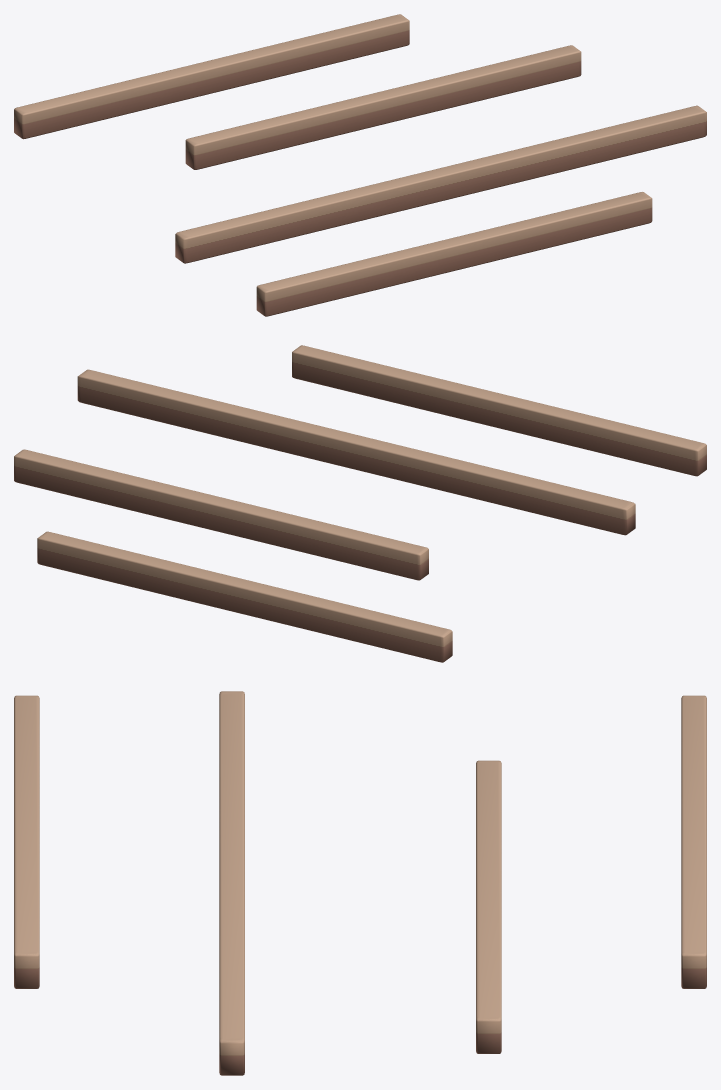
The model's file is Props.fbx.
3 views of the same model, one above another, from view 1: azimuth 30°, elevation 25°; view 2: azimuth 150°, elevation 25°; view 3: azimuth 270°, elevation 25° (orthographic). The views are drawn at different scales.
Parts seen in each view (by area): view 1: Box20-3_2 (3), Box20-3_2 (2), Box20-3_2 (4), Box20-3_2 (5); view 2: Box20-3_2 (3), Box20-3_2 (5), Box20-3_2 (2), Box20-3_2 (4); view 3: Box20-3_2 (3), Box20-3_2 (2), Box20-3_2 (4), Box20-3_2 (5).
Part boxes in pixels (x1,y1,x2,y2): Box20-3_2 (3): (175, 105, 706, 263); Box20-3_2 (2): (185, 45, 581, 169); Box20-3_2 (4): (256, 192, 652, 316); Box20-3_2 (5): (14, 14, 409, 139); Box20-3_2 (3): (77, 369, 635, 535); Box20-3_2 (5): (37, 531, 452, 662); Box20-3_2 (2): (14, 449, 428, 580); Box20-3_2 (4): (292, 345, 706, 476); Box20-3_2 (3): (219, 691, 244, 1075); Box20-3_2 (2): (476, 760, 501, 1053); Box20-3_2 (4): (14, 695, 39, 988); Box20-3_2 (5): (681, 695, 706, 988).
Size of the model in its own units: 32.42 by 1.5 by 27.
